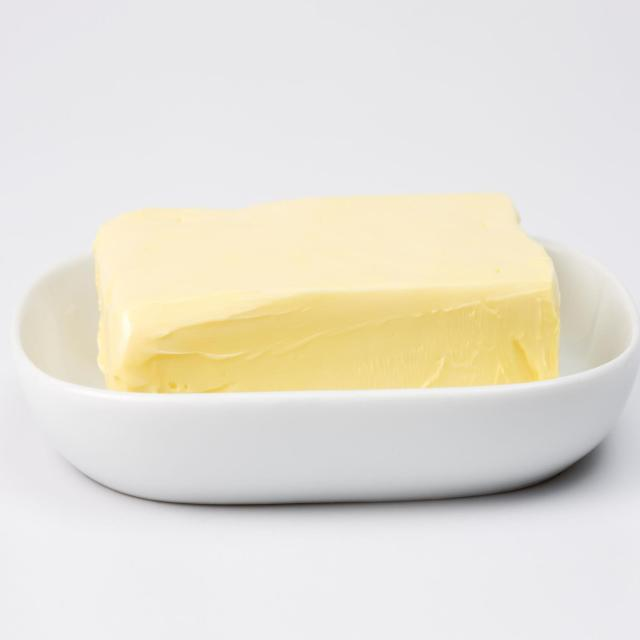Butter: (87, 185, 559, 385)
